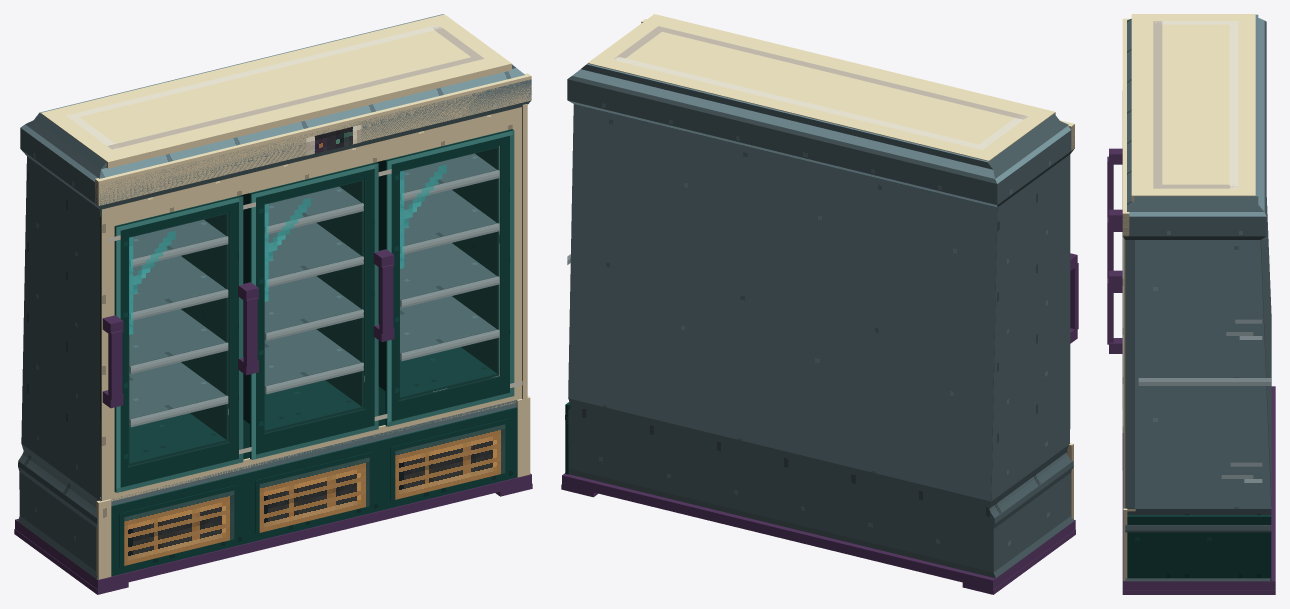
File: vaccine-fridge-voxel-3door.glb
3 views of the same model, side by side, from view 1: azimuth 30°, elevation 25°; view 2: azimuth 150°, elevation 25°; view 3: azimuth 270°, elevation 25° (orthographic). The views are drawn at different scales.
Parts seen in each view (by area): view 1: source_hull, nano_tile_top_surface, front_glass_bay1, front_glass_bay2, front_glass_bay0, crown_fascia, condenser_front_panel, cream_frame_top, plinth_rail, fixed_grille_bay2, fixed_grille_bay0, fixed_grille_bay1 (+59 smaller); view 2: nano_tile_back_panel, source_hull, nano_tile_top_surface, plinth_rail, roof_inset_front_dark, roof_inset_back_light, foot_left; view 3: nano_tile_side_panel, nano_tile_top_surface, source_hull, side_base_panel_right, plinth_rail, roof_inset_front_dark, roof_inset_back_light, nano_tile_back_panel, crown_fascia, cream_corner_right, foot_right, side_panel_semantic_seam_dark (+8 smaller).
Boxes of the visible parts, x1,y1,x2,y2 form: source_hull: (18, 14, 531, 579); nano_tile_top_surface: (41, 14, 511, 161); front_glass_bay1: (264, 179, 365, 434); front_glass_bay2: (400, 146, 500, 401); front_glass_bay0: (129, 213, 229, 467); crown_fascia: (95, 73, 531, 205); condenser_front_panel: (111, 407, 517, 576); cream_frame_top: (114, 109, 512, 225); plinth_rail: (15, 473, 531, 589); fixed_grille_bay2: (395, 424, 505, 499); fixed_grille_bay0: (124, 490, 234, 565); fixed_grille_bay1: (259, 457, 369, 532); nano_tile_back_panel: (568, 104, 997, 501); source_hull: (565, 63, 1074, 578); nano_tile_top_surface: (588, 14, 1054, 160); plinth_rail: (562, 473, 1075, 589); roof_inset_front_dark: (654, 26, 1027, 119); roof_inset_back_light: (612, 57, 986, 149); foot_left: (962, 529, 1075, 594); nano_tile_side_panel: (1135, 240, 1271, 508); nano_tile_top_surface: (1131, 14, 1255, 195); source_hull: (1123, 14, 1271, 581); side_base_panel_right: (1127, 515, 1271, 580); plinth_rail: (1122, 386, 1275, 589); roof_inset_front_dark: (1153, 21, 1162, 188); roof_inset_back_light: (1229, 21, 1238, 188); nano_tile_back_panel: (1261, 197, 1271, 504); crown_fascia: (1122, 18, 1129, 236); cream_corner_right: (1123, 238, 1135, 511); foot_right: (1122, 590, 1275, 594); side_panel_semantic_seam_dark: (1138, 382, 1271, 385).
Size of the model in its own units: 3.21 by 3 by 1.17.
Materials: 26 (13 with a texture image).
